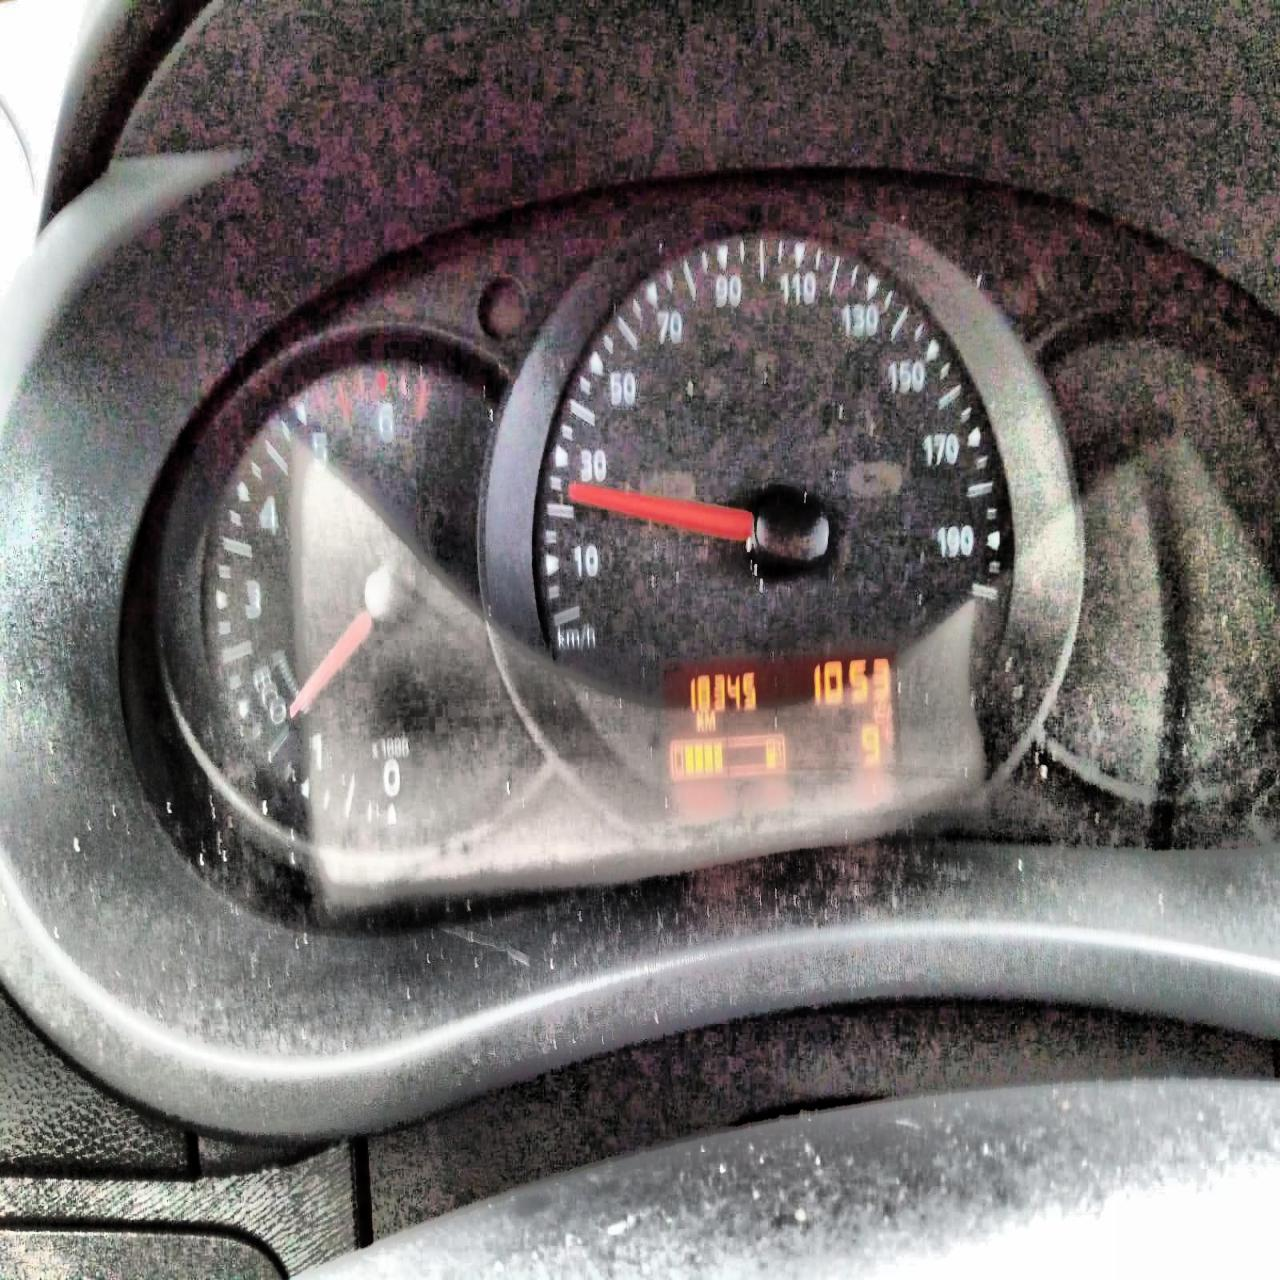0: (823, 658, 843, 704), (696, 673, 710, 710)
1: (812, 661, 822, 702), (689, 676, 696, 713)
3: (872, 656, 890, 701), (713, 673, 726, 710)
4: (726, 673, 741, 709)
5: (847, 656, 869, 704), (742, 670, 755, 710)
9: (860, 722, 880, 767)
X: (703, 709, 715, 733), (696, 709, 704, 734)
odometer: (661, 651, 901, 784)
